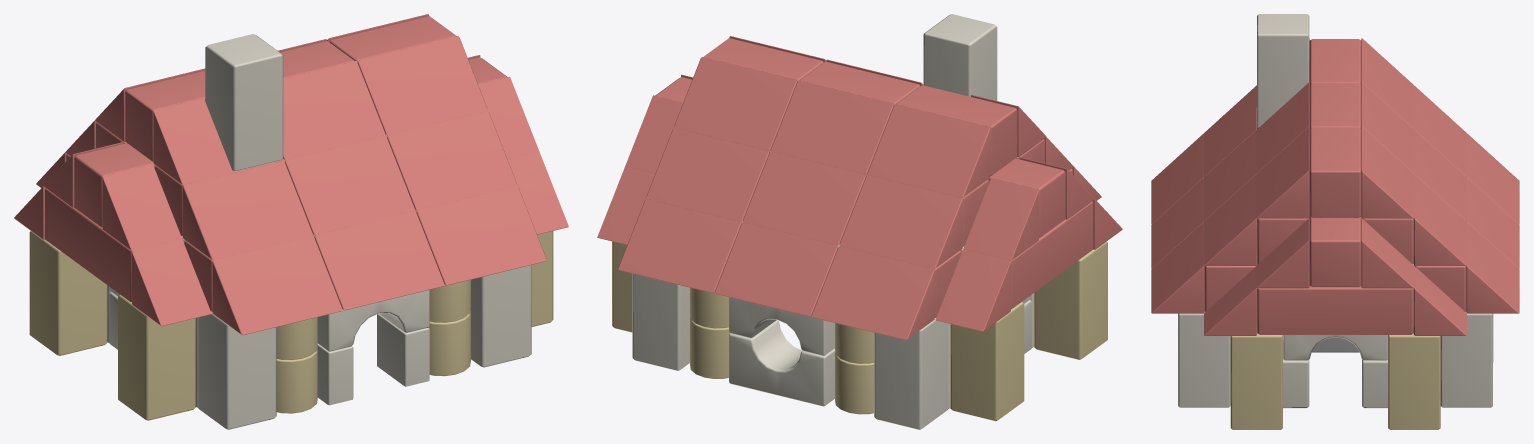
Rendered from ax house.fbx.
3 views of the same model, side by side, from view 1: azimuth 30°, elevation 25°; view 2: azimuth 150°, elevation 25°; view 3: azimuth 270°, elevation 25° (orthographic). The views are drawn at different scales.
Visible parts, largest first — view 1: pCube639, pCube638, pCube108, pCube433, pCube426, pCube427, pCube424, pCube528, pCube660, pCube52, pCube637, pCube661 (+26 smaller); view 2: pCube633, pCube635, pCube634, pCube436, pCube437, pCube444, pCube445, pCube440, pCube441, pCube661, pCube51, pCube660 (+24 smaller); view 3: pCube658, pCube656, pCube654, pCube108, pCube525, pCube43, pCube48, pCube427, pCube445, pCube523, pCube426, pCube436 (+27 smaller).
Boxes of the visible parts, x1,y1,x2,y2 form: pCube639: (212, 236, 342, 335); pCube638: (183, 160, 312, 259); pCube108: (205, 34, 283, 171); pCube433: (314, 211, 444, 310); pCube426: (416, 186, 546, 285); pCube427: (358, 36, 487, 135); pCube424: (387, 111, 517, 210); pCube528: (285, 136, 415, 235); pCube660: (118, 295, 195, 420); pCube52: (198, 311, 276, 429); pCube637: (283, 61, 385, 160); pCube661: (29, 231, 107, 355); pCube633: (811, 246, 934, 340); pCube635: (867, 104, 990, 197); pCube634: (839, 175, 962, 268); pCube436: (618, 199, 741, 293); pCube437: (715, 222, 837, 316); pCube444: (770, 80, 893, 174); pCube445: (674, 57, 796, 150); pCube440: (743, 151, 865, 245); pCube441: (646, 128, 769, 221); pCube661: (950, 302, 1024, 421); pCube51: (874, 318, 947, 429); pCube660: (1034, 241, 1107, 359); pCube658: (1257, 286, 1413, 334); pCube656: (1388, 333, 1440, 429); pCube654: (1230, 333, 1282, 429); pCube108: (1257, 14, 1309, 127); pCube525: (1309, 127, 1361, 217); pCube43: (1440, 312, 1492, 407); pCube48: (1178, 312, 1230, 407); pCube427: (1256, 127, 1309, 218); pCube445: (1361, 127, 1414, 218); pCube523: (1309, 216, 1361, 287); pCube426: (1151, 222, 1204, 313); pCube436: (1466, 222, 1519, 313).
Size of the model in its own units: 144 by 108 by 126.
